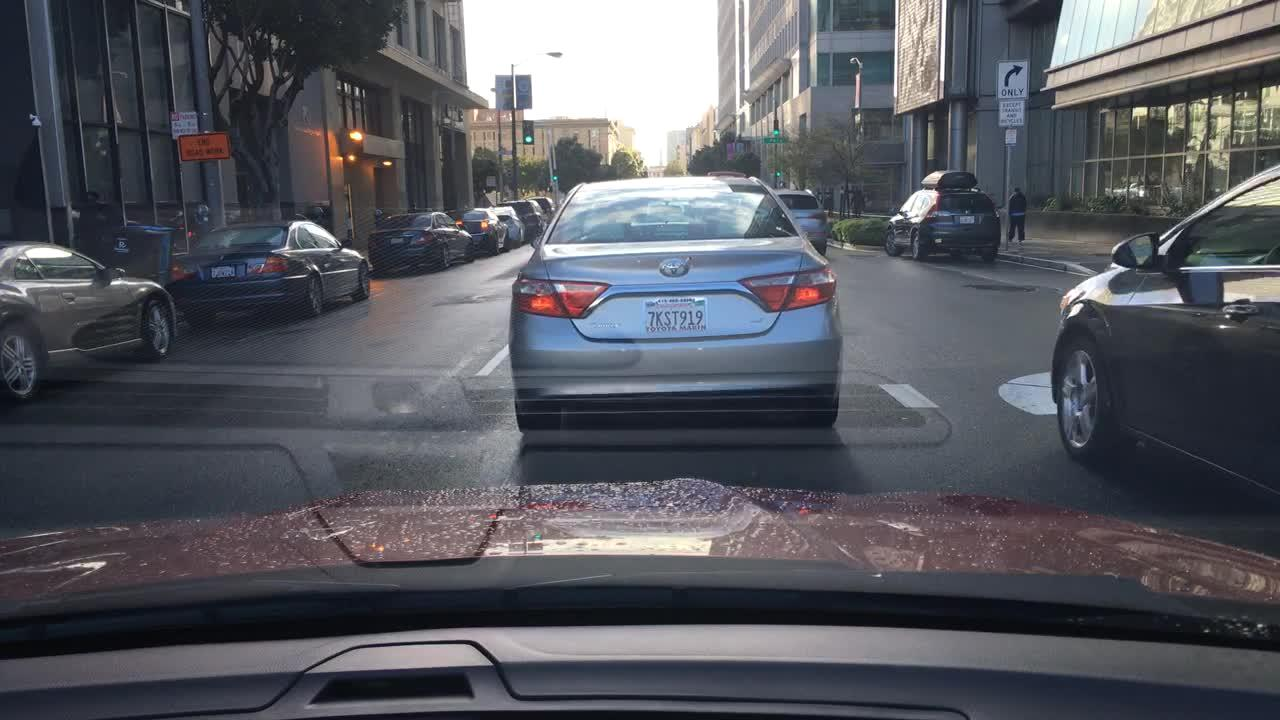Toyota: (654, 252, 695, 282)
